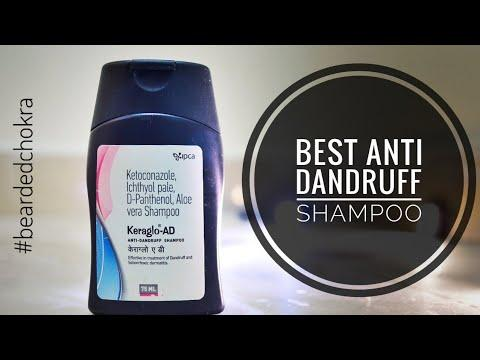KeraGlo: (83, 60, 230, 317)
